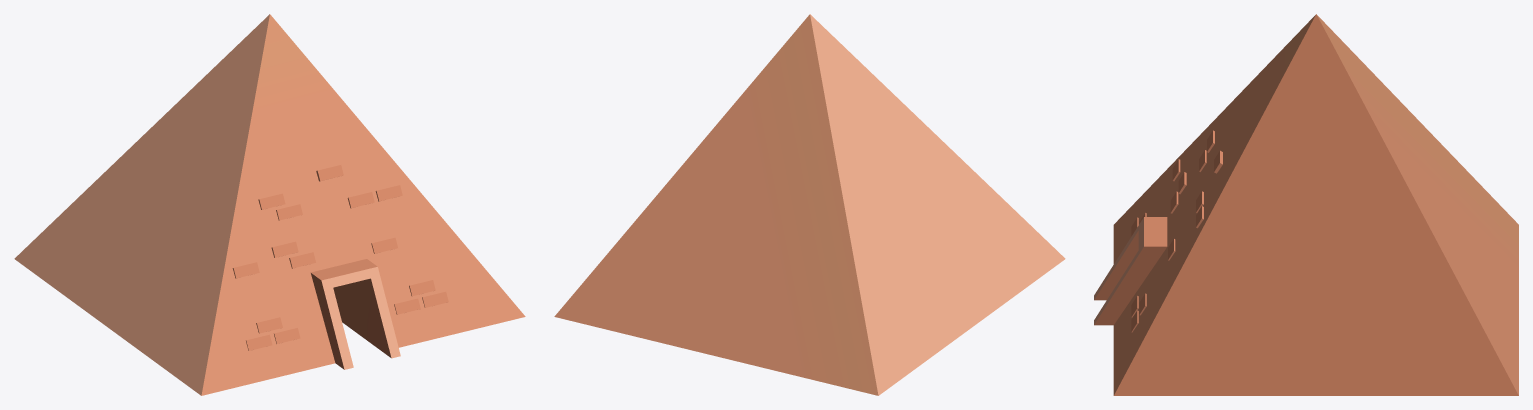
The model's file is kimtuthap.fbx.
3 views of the same model, side by side, from view 1: azimuth 30°, elevation 25°; view 2: azimuth 150°, elevation 25°; view 3: azimuth 270°, elevation 25° (orthographic). The views are drawn at different scales.
Visible parts, largest first — view 1: kimtuthap; view 2: kimtuthap; view 3: kimtuthap.
Boxes of the visible parts, <box> form: kimtuthap: <box>14,14,525,395</box>; kimtuthap: <box>554,14,1065,395</box>; kimtuthap: <box>1094,14,1518,395</box>.
Size of the model in its own units: 700 by 565 by 734.
